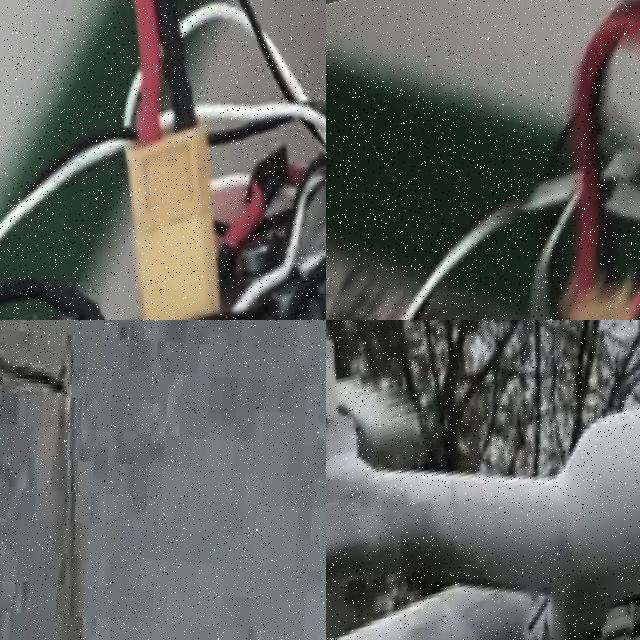drone: (0, 0, 326, 320), (326, 0, 640, 320), (326, 320, 640, 640)
